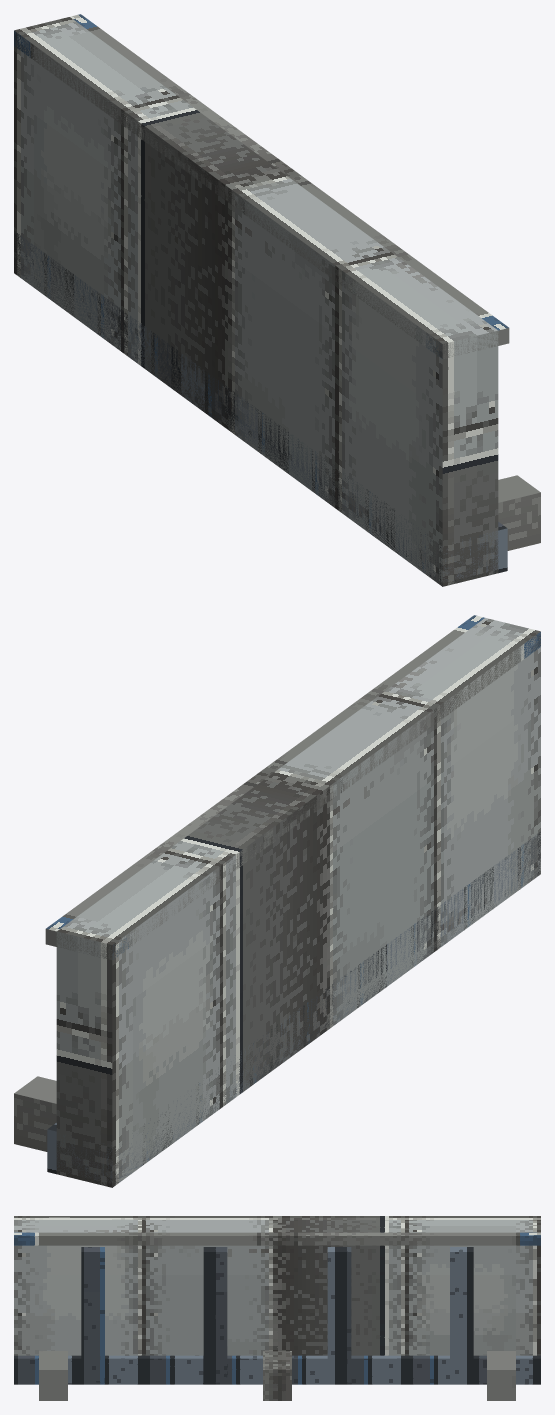
The model's file is sp_skiff_shield.glb.
3 renders of one model, top to bottom at view 1: azimuth 30°, elevation 25°; view 2: azimuth 150°, elevation 25°; view 3: azimuth 270°, elevation 25°, orthographic. The views are drawn at different scales.
Parts seen in each view (by area): view 1: shield_panel, shield_kick, shield_cap, shield_mount_0; view 2: shield_panel, shield_cap, shield_kick, shield_mount_2; view 3: shield_panel, shield_kick, shield_cap, shield_rib_1, shield_rib_2, shield_rib_0, shield_rib_3, shield_mount_0, shield_mount_1, shield_mount_2.
Part boxes in pixels (<box>): shield_panel: <box>14,17,498,586</box>; shield_kick: <box>14,230,507,586</box>; shield_cap: <box>14,14,509,359</box>; shield_mount_0: <box>498,475,540,550</box>; shield_panel: <box>56,618,540,1187</box>; shield_cap: <box>45,615,540,959</box>; shield_kick: <box>47,832,540,1187</box>; shield_mount_2: <box>14,1076,56,1151</box>; shield_panel: <box>14,1216,540,1355</box>; shield_kick: <box>14,1355,540,1384</box>; shield_cap: <box>14,1232,540,1245</box>; shield_rib_1: <box>203,1247,227,1382</box>; shield_rib_2: <box>327,1247,351,1382</box>; shield_rib_0: <box>81,1247,104,1382</box>; shield_rib_3: <box>450,1247,473,1382</box>; shield_mount_0: <box>39,1351,67,1400</box>; shield_mount_1: <box>263,1351,291,1400</box>; shield_mount_2: <box>487,1351,515,1400</box>.
Size of the model in its own units: 0.64 by 1.25 by 4.
Materials: 3 (3 with a texture image).
